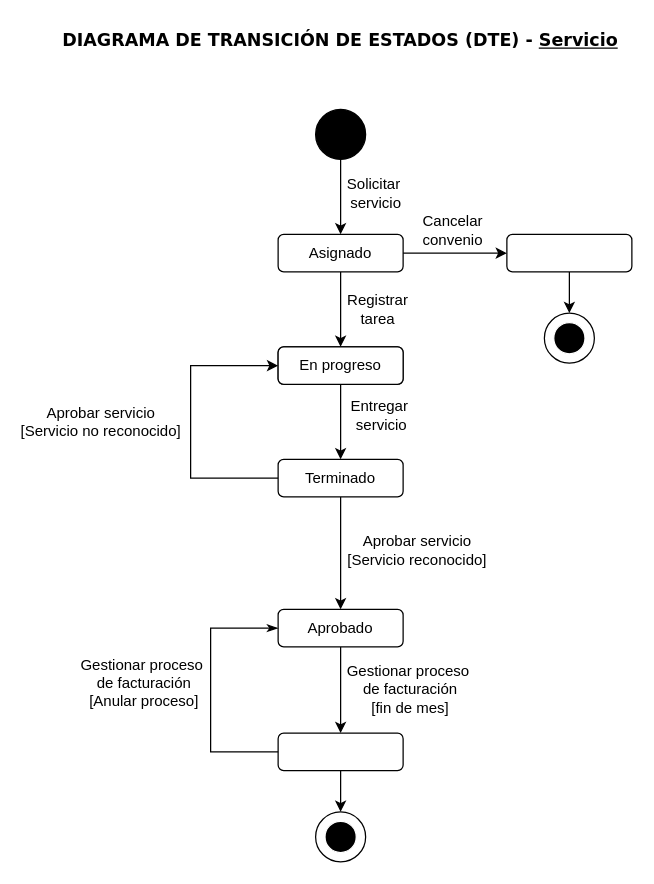
This 654x884 diagram has some shape labels left out. The shapes that lost their labels are listed below. From the top down, each one's centre as x and y in pixels, then its label:
the point at 569,252: Cancelado
the point at 340,751: Facturado
